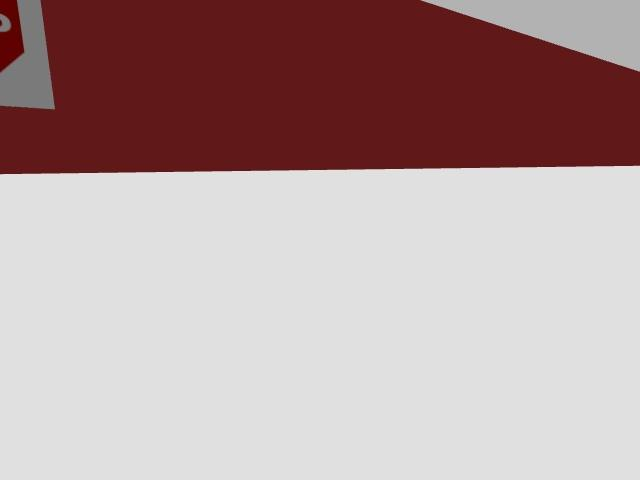stop: (0, 0, 54, 109)
